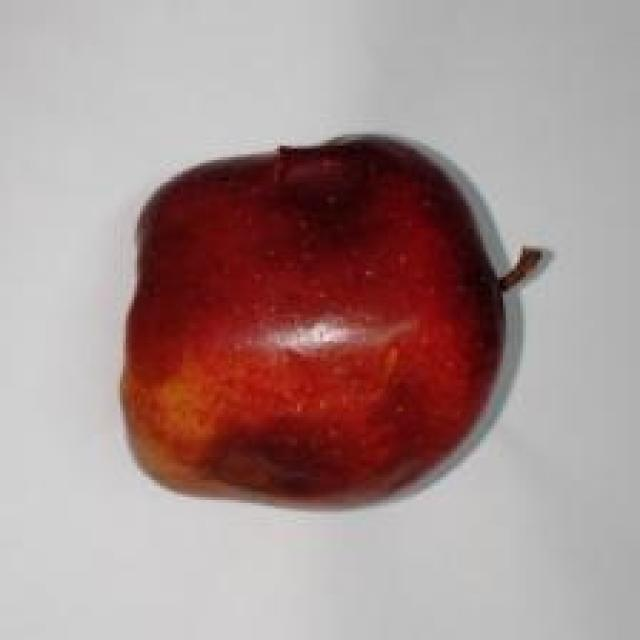rotten apple: (83, 95, 578, 550)
